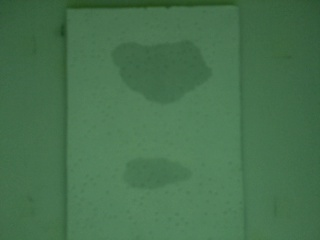Water_detected: (128, 45, 190, 90), (128, 162, 168, 193)
